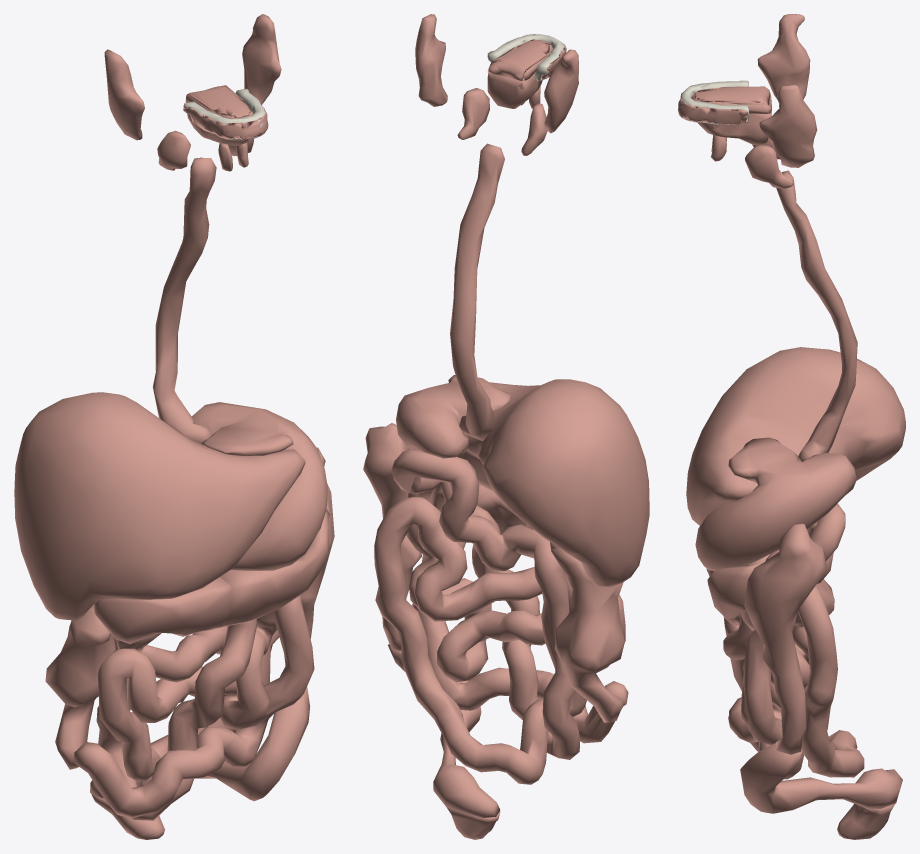
Rendered from icrp_adult_male.digestive.LOD2.glb.
3 views of the same model, side by side, from view 1: azimuth 30°, elevation 25°; view 2: azimuth 150°, elevation 25°; view 3: azimuth 270°, elevation 25° (orthographic). The views are drawn at different scales.
Visible parts, largest first — view 1: ICRP.ADULT.MALE.DIGESTIVE.LIVER, ICRP.ADULT.MALE.DIGESTIVE.SMALL_INTESTINE_WALL, ICRP.ADULT.MALE.DIGESTIVE.STOMACH_WALL, ICRP.ADULT.MALE.DIGESTIVE.OESOPHAGUS_WALL, ICRP.ADULT.MALE.DIGESTIVE.ASCENDING_COLON_WALL, ICRP.ADULT.MALE.DIGESTIVE.TRANSVERSE_COLON_WALL.R, ICRP.ADULT.MALE.DIGESTIVE.TRANSVERSE_COLON_WALL.L, ICRP.ADULT.MALE.DIGESTIVE.SIGMOID_COLON_WALL, ICRP.ADULT.MALE.DIGESTIVE.SALIVARY_GLANDS.R, ICRP.ADULT.MALE.DIGESTIVE.SALIVARY_GLANDS.L, ICRP.ADULT.MALE.DIGESTIVE.ORAL_MUCOSA_LIP_AND_CHEEKS, ICRP.ADULT.MALE.DIGESTIVE.ORAL_MUCOSA_MOUTH_FLOOR (+3 smaller); view 2: ICRP.ADULT.MALE.DIGESTIVE.SMALL_INTESTINE_WALL, ICRP.ADULT.MALE.DIGESTIVE.LIVER, ICRP.ADULT.MALE.DIGESTIVE.OESOPHAGUS_WALL, ICRP.ADULT.MALE.DIGESTIVE.ASCENDING_COLON_WALL, ICRP.ADULT.MALE.DIGESTIVE.STOMACH_WALL, ICRP.ADULT.MALE.DIGESTIVE.DESCENDING_COLON_WALL, ICRP.ADULT.MALE.DIGESTIVE.SALIVARY_GLANDS.L, ICRP.ADULT.MALE.DIGESTIVE.SIGMOID_COLON_WALL, ICRP.ADULT.MALE.DIGESTIVE.SALIVARY_GLANDS.R, ICRP.ADULT.MALE.DIGESTIVE.ORAL_MUCOSA_MOUTH_FLOOR, ICRP.ADULT.MALE.DIGESTIVE.TONGUE_LOWER_SURFACE, ICRP.ADULT.MALE.DIGESTIVE.TEETH (+2 smaller); view 3: ICRP.ADULT.MALE.DIGESTIVE.LIVER, ICRP.ADULT.MALE.DIGESTIVE.SMALL_INTESTINE_WALL, ICRP.ADULT.MALE.DIGESTIVE.STOMACH_WALL, ICRP.ADULT.MALE.DIGESTIVE.DESCENDING_COLON_WALL, ICRP.ADULT.MALE.DIGESTIVE.SIGMOID_COLON_WALL, ICRP.ADULT.MALE.DIGESTIVE.OESOPHAGUS_WALL, ICRP.ADULT.MALE.DIGESTIVE.SALIVARY_GLANDS.L, ICRP.ADULT.MALE.DIGESTIVE.SALIVARY_GLANDS.R, ICRP.ADULT.MALE.DIGESTIVE.TRANSVERSE_COLON_WALL.L, ICRP.ADULT.MALE.DIGESTIVE.RECTUM_WALL, ICRP.ADULT.MALE.DIGESTIVE.ORAL_MUCOSA_MOUTH_FLOOR, ICRP.ADULT.MALE.DIGESTIVE.TONGUE_LOWER_SURFACE (+2 smaller).
Boxes of the visible parts, x1,y1,x2,y2 form: ICRP.ADULT.MALE.DIGESTIVE.LIVER: (14, 392, 305, 620); ICRP.ADULT.MALE.DIGESTIVE.SMALL_INTESTINE_WALL: (74, 595, 314, 820); ICRP.ADULT.MALE.DIGESTIVE.STOMACH_WALL: (191, 402, 327, 570); ICRP.ADULT.MALE.DIGESTIVE.OESOPHAGUS_WALL: (153, 157, 216, 444); ICRP.ADULT.MALE.DIGESTIVE.ASCENDING_COLON_WALL: (45, 604, 115, 769); ICRP.ADULT.MALE.DIGESTIVE.TRANSVERSE_COLON_WALL.R: (94, 577, 231, 644); ICRP.ADULT.MALE.DIGESTIVE.TRANSVERSE_COLON_WALL.L: (220, 509, 329, 626); ICRP.ADULT.MALE.DIGESTIVE.SIGMOID_COLON_WALL: (90, 687, 310, 801); ICRP.ADULT.MALE.DIGESTIVE.SALIVARY_GLANDS.R: (104, 49, 232, 171); ICRP.ADULT.MALE.DIGESTIVE.SALIVARY_GLANDS.L: (228, 14, 281, 167); ICRP.ADULT.MALE.DIGESTIVE.ORAL_MUCOSA_LIP_AND_CHEEKS: (183, 90, 268, 139); ICRP.ADULT.MALE.DIGESTIVE.ORAL_MUCOSA_MOUTH_FLOOR: (186, 85, 252, 118); ICRP.ADULT.MALE.DIGESTIVE.SMALL_INTESTINE_WALL: (374, 449, 628, 784); ICRP.ADULT.MALE.DIGESTIVE.LIVER: (466, 379, 649, 587); ICRP.ADULT.MALE.DIGESTIVE.OESOPHAGUS_WALL: (450, 143, 504, 441); ICRP.ADULT.MALE.DIGESTIVE.ASCENDING_COLON_WALL: (551, 548, 625, 722); ICRP.ADULT.MALE.DIGESTIVE.STOMACH_WALL: (396, 375, 510, 490); ICRP.ADULT.MALE.DIGESTIVE.DESCENDING_COLON_WALL: (363, 423, 421, 650); ICRP.ADULT.MALE.DIGESTIVE.SALIVARY_GLANDS.L: (415, 14, 524, 139); ICRP.ADULT.MALE.DIGESTIVE.SIGMOID_COLON_WALL: (388, 644, 500, 817); ICRP.ADULT.MALE.DIGESTIVE.SALIVARY_GLANDS.R: (521, 49, 578, 155); ICRP.ADULT.MALE.DIGESTIVE.ORAL_MUCOSA_MOUTH_FLOOR: (487, 39, 550, 80); ICRP.ADULT.MALE.DIGESTIVE.TONGUE_LOWER_SURFACE: (487, 72, 542, 108); ICRP.ADULT.MALE.DIGESTIVE.TEETH: (487, 34, 565, 80); ICRP.ADULT.MALE.DIGESTIVE.LIVER: (686, 347, 905, 525); ICRP.ADULT.MALE.DIGESTIVE.SMALL_INTESTINE_WALL: (723, 503, 864, 779); ICRP.ADULT.MALE.DIGESTIVE.STOMACH_WALL: (695, 437, 856, 570); ICRP.ADULT.MALE.DIGESTIVE.DESCENDING_COLON_WALL: (744, 523, 826, 754); ICRP.ADULT.MALE.DIGESTIVE.SIGMOID_COLON_WALL: (740, 743, 902, 813); ICRP.ADULT.MALE.DIGESTIVE.OESOPHAGUS_WALL: (776, 170, 857, 462); ICRP.ADULT.MALE.DIGESTIVE.SALIVARY_GLANDS.L: (711, 84, 817, 188); ICRP.ADULT.MALE.DIGESTIVE.SALIVARY_GLANDS.R: (711, 14, 810, 159); ICRP.ADULT.MALE.DIGESTIVE.TRANSVERSE_COLON_WALL.L: (707, 563, 762, 618); ICRP.ADULT.MALE.DIGESTIVE.RECTUM_WALL: (837, 801, 896, 839); ICRP.ADULT.MALE.DIGESTIVE.ORAL_MUCOSA_MOUTH_FLOOR: (693, 86, 771, 112); ICRP.ADULT.MALE.DIGESTIVE.TONGUE_LOWER_SURFACE: (698, 97, 771, 145).
Size of the model in its own units: 0.2711 by 0.7427 by 0.1933.
